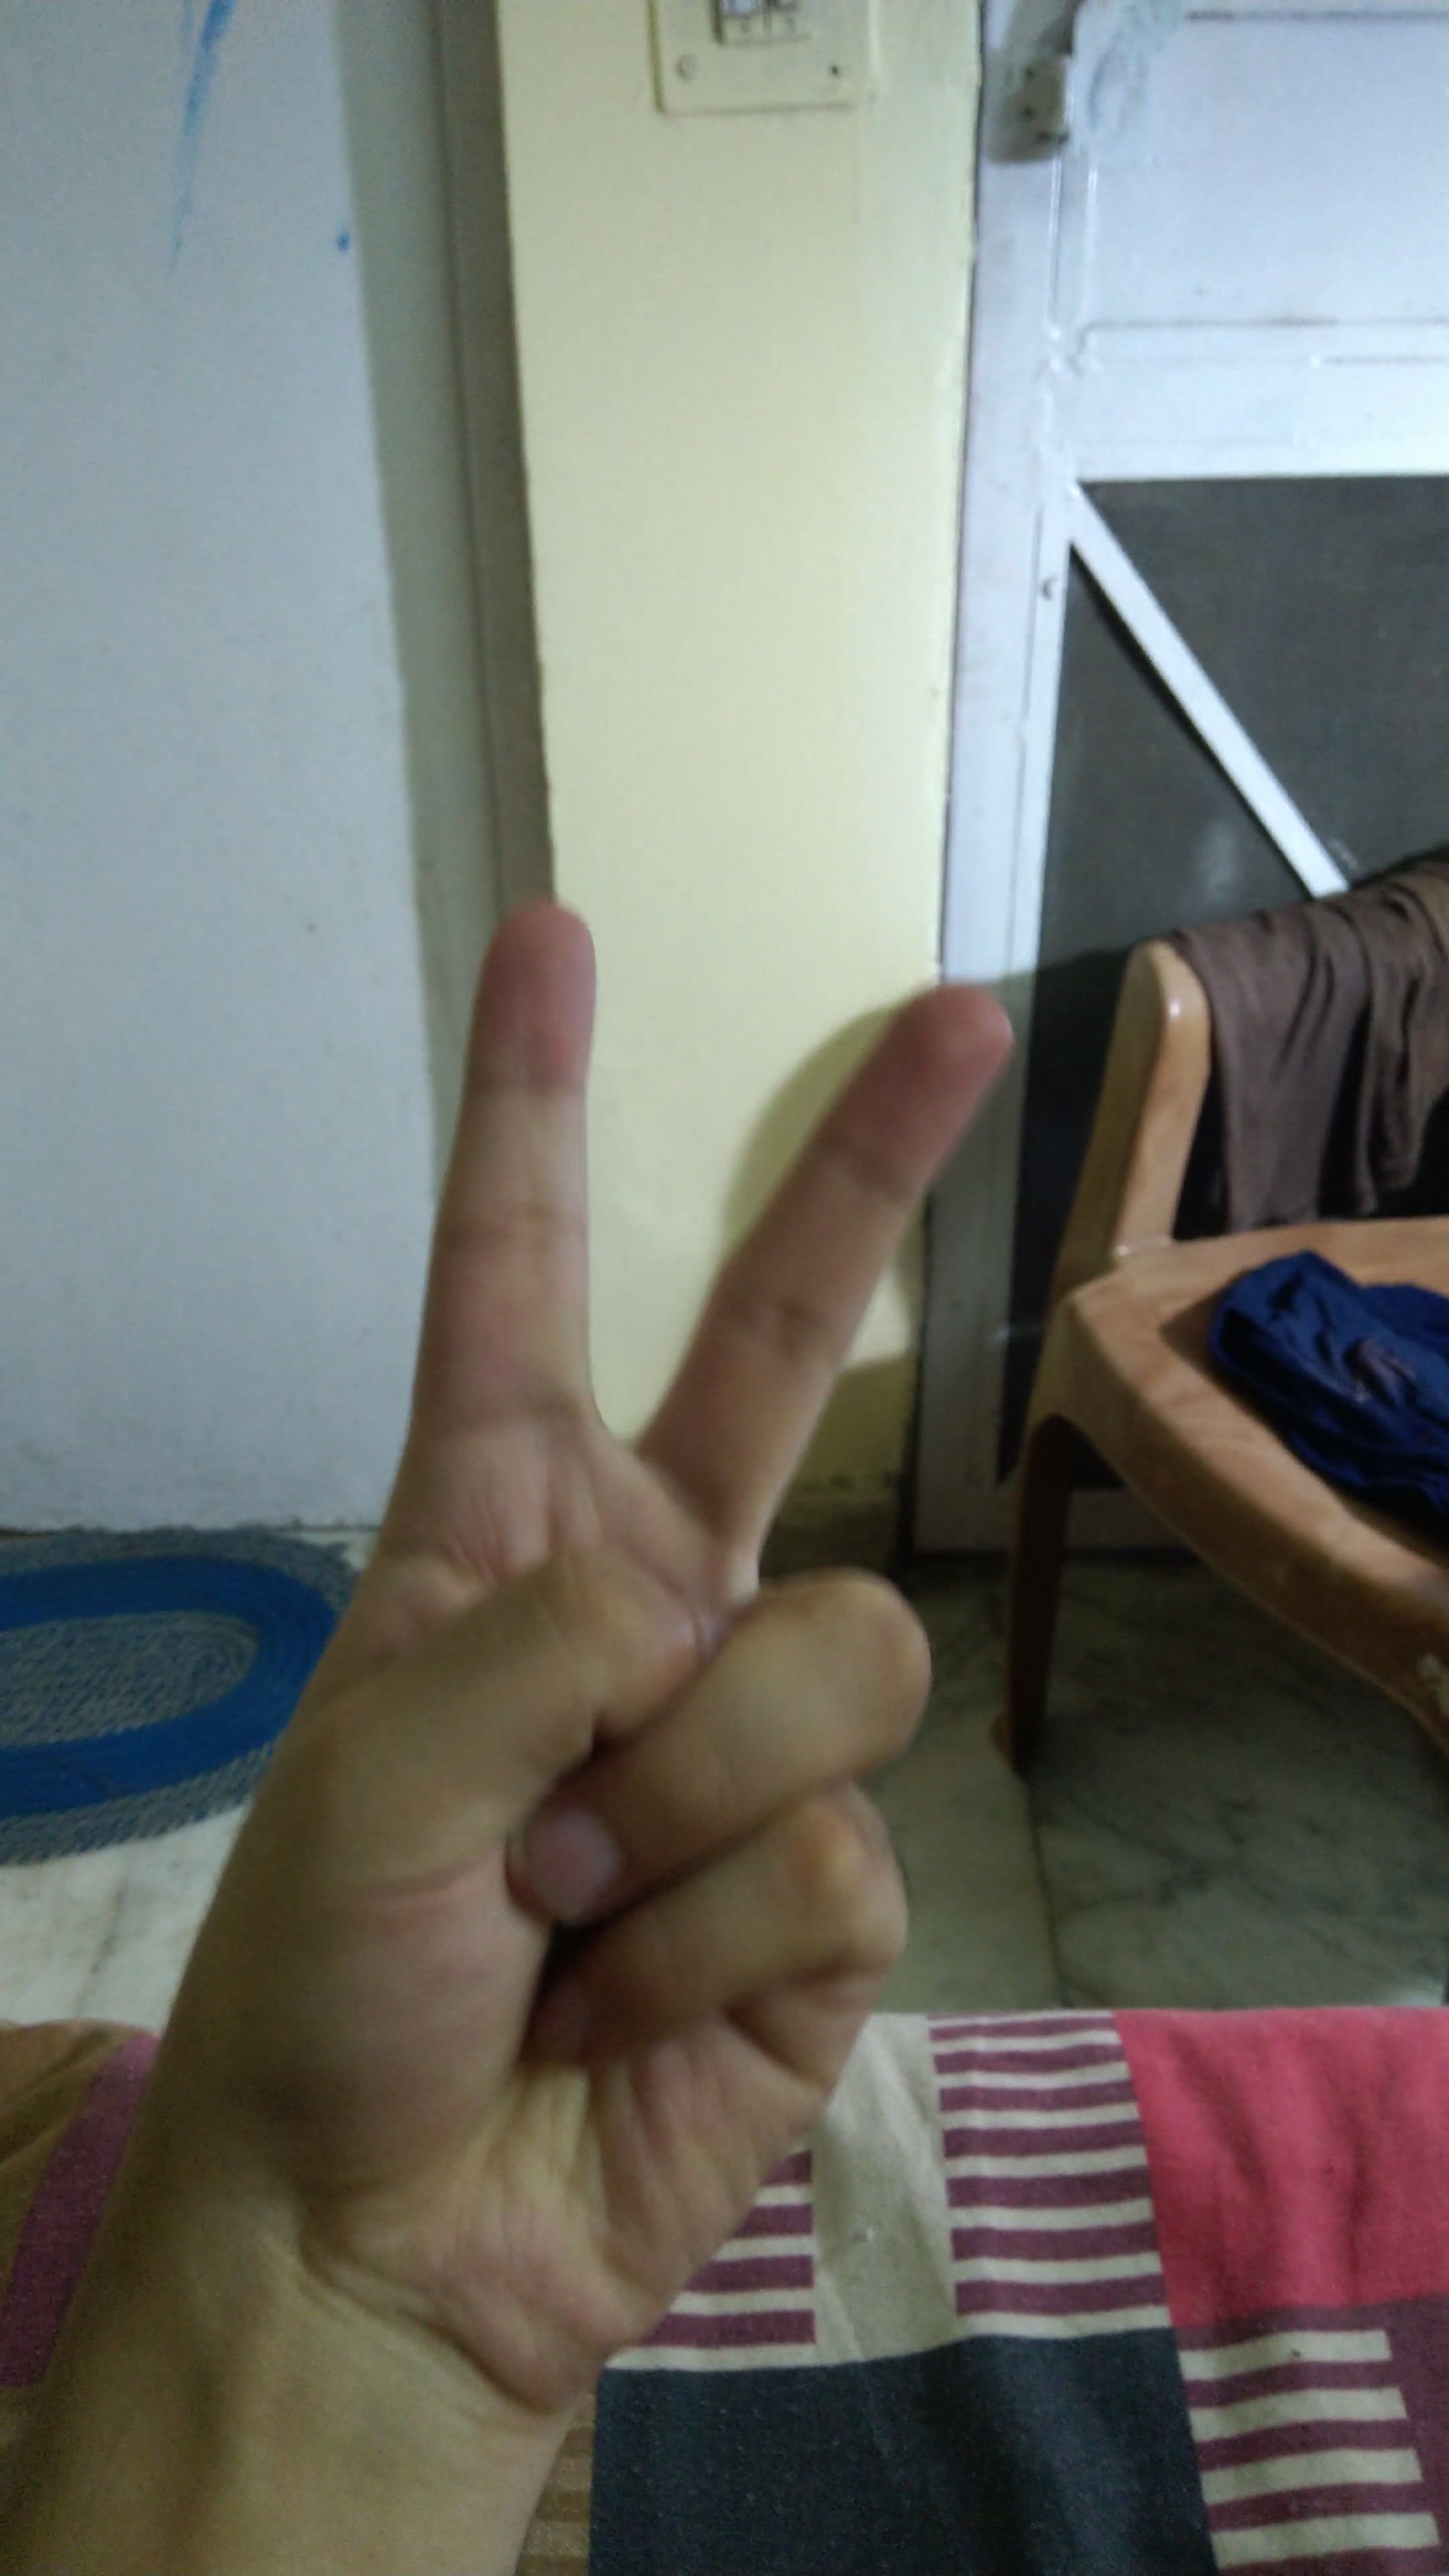hand: (108, 888, 1083, 2415)
